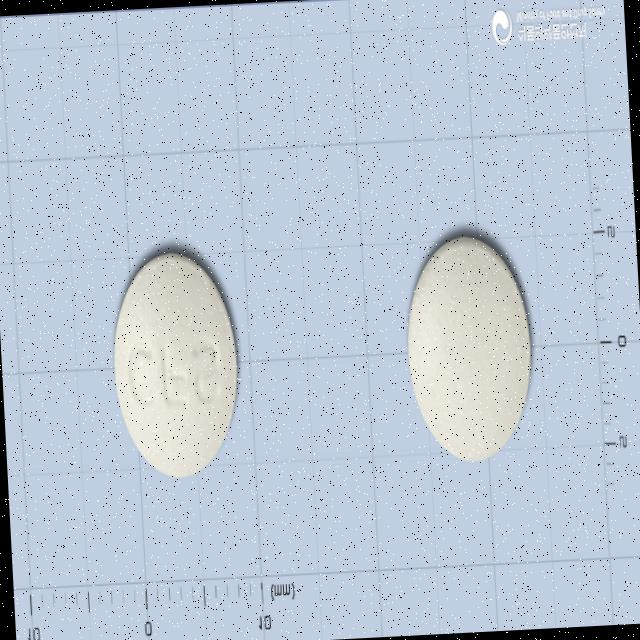Ciproxin: (395, 219, 545, 475), (106, 244, 248, 488)
